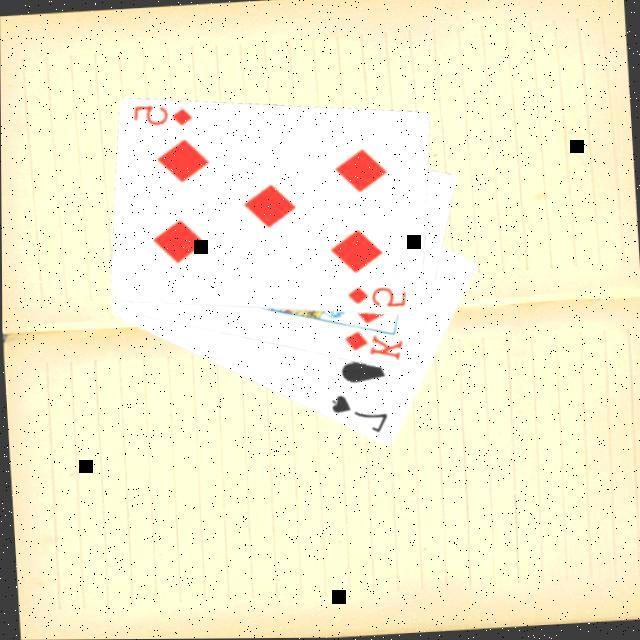5D: (344, 284, 408, 316), (130, 102, 194, 134)
7S: (326, 391, 390, 442)
KD: (338, 328, 406, 369)
